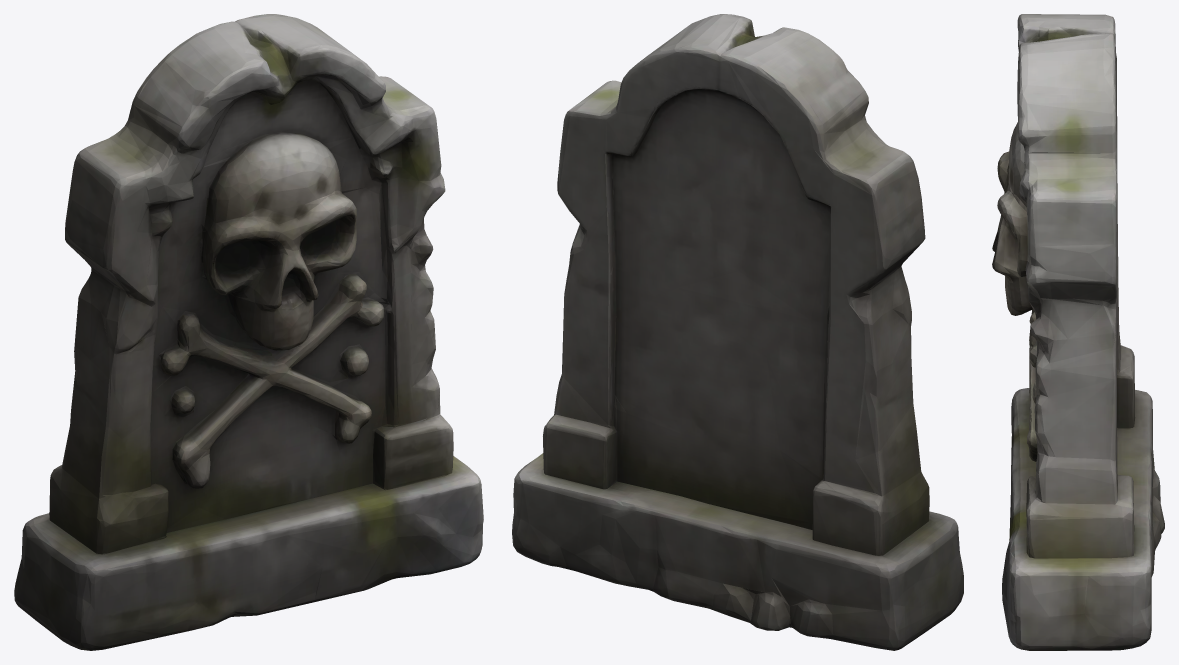
File: tombstone_skull_crossbones.glb
3 views of the same model, side by side, from view 1: azimuth 30°, elevation 25°; view 2: azimuth 150°, elevation 25°; view 3: azimuth 270°, elevation 25° (orthographic). The views are drawn at different scales.
Visible parts, largest first — view 1: geometry_0; view 2: geometry_0; view 3: geometry_0.
Boxes of the visible parts, <box> form: geometry_0: <box>14,14,483,650</box>; geometry_0: <box>512,14,963,650</box>; geometry_0: <box>992,14,1164,650</box>.
Bounding box in the file's own units: 0.7669 × 0.9976 × 0.294.
1 material, 1 textured.
